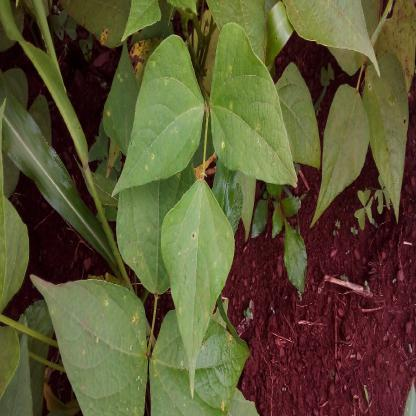Beans_Rust: (27, 275, 147, 416), (108, 37, 202, 201), (162, 179, 234, 391), (209, 24, 300, 189), (148, 308, 255, 416)
